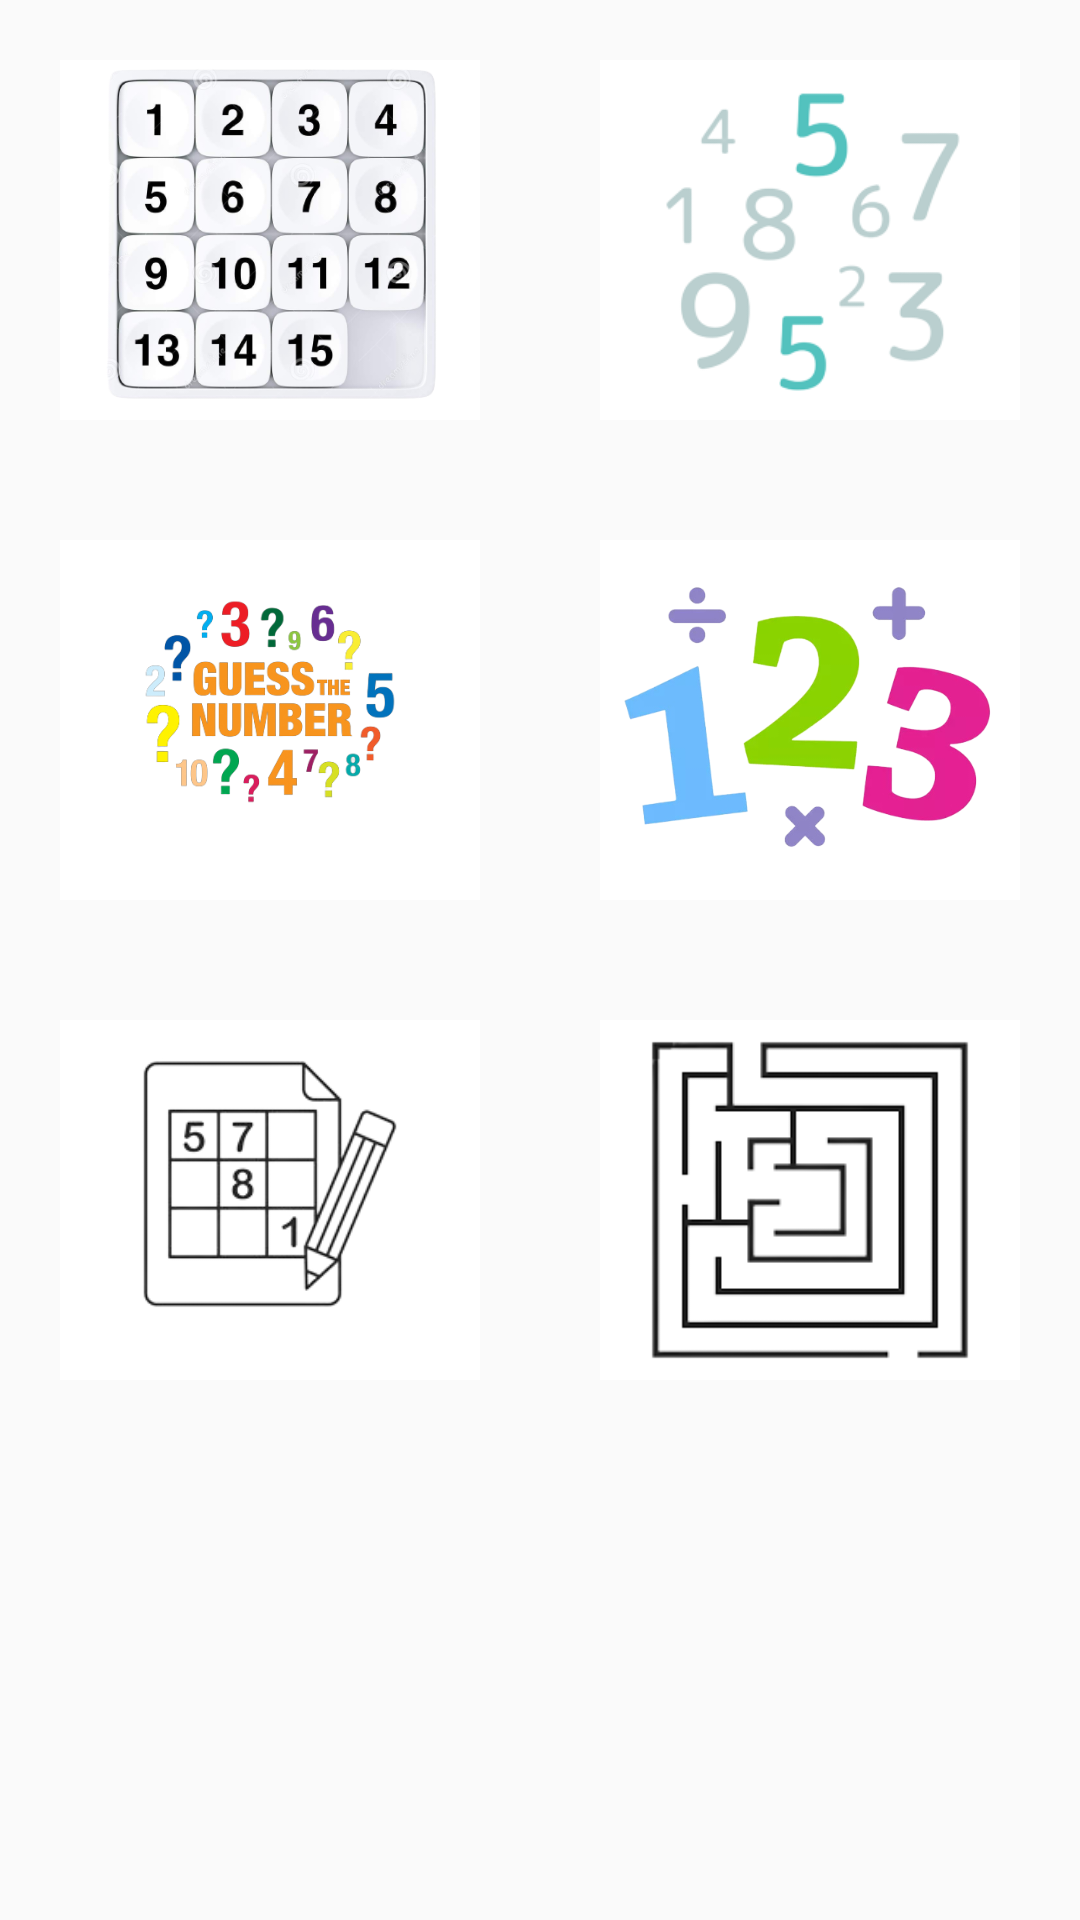

Icon bounding boxes for this 1080px×1920px phone screenshot, format (x1, y1, x2, y2):
maze: (652, 1042, 968, 1358)
memory: (666, 93, 959, 391)
slide: (116, 70, 435, 392)
sudoku: (143, 1061, 397, 1307)
